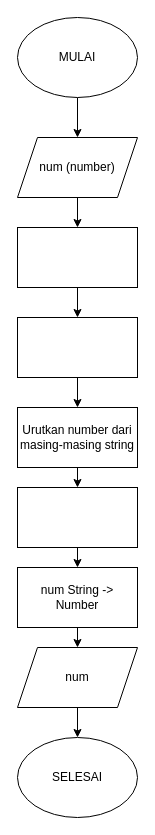
The diagram is 155 pixels wide and 835 high, and some of its shapes have lost their labels. Here are the shapes that lost their labels. From the top down, the centre of each, then its label:
At (77,257): "num -> String".
At (77,347): "bagi string menjadi beberapa string dengan 0 sebagai batasan".
At (77,517): "Gabungkan semua String".
